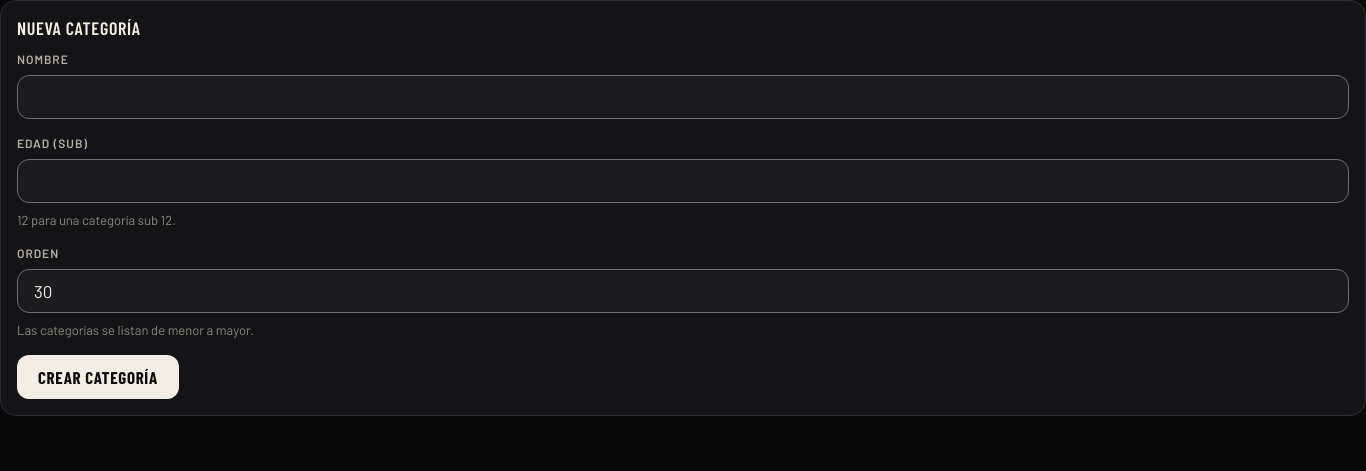
CategoryEditor · una categoría nueva › el orden siguiente sale del que se acaba de usar, no del propuesto
In the field labelled "Nombre": (683, 97) [17,75,1349,119], type "Mayores"
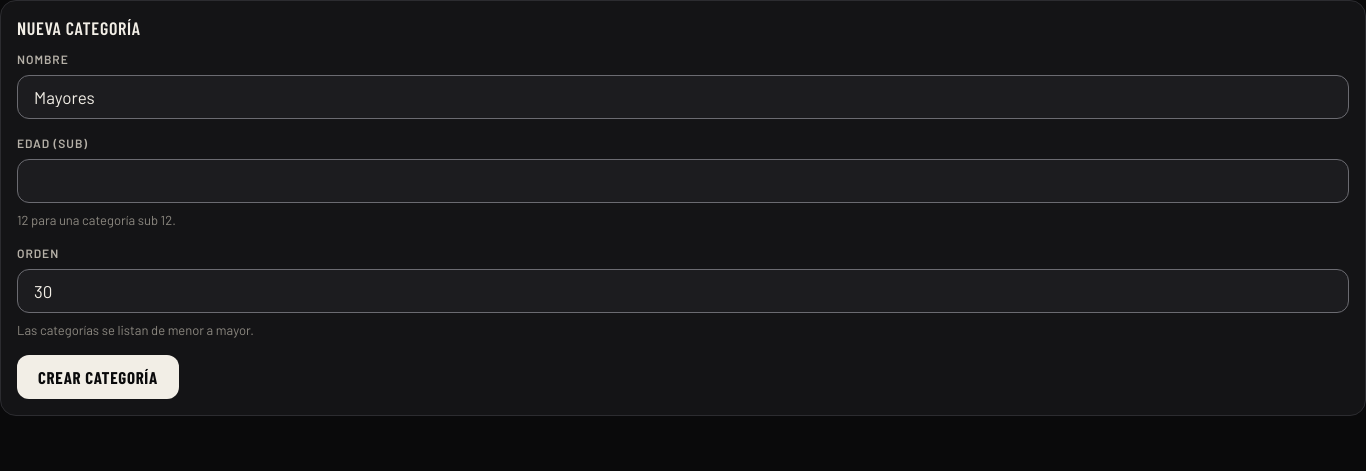
In the number field labelled "Edad (sub)": (683, 181) [17,159,1349,203], type "16"
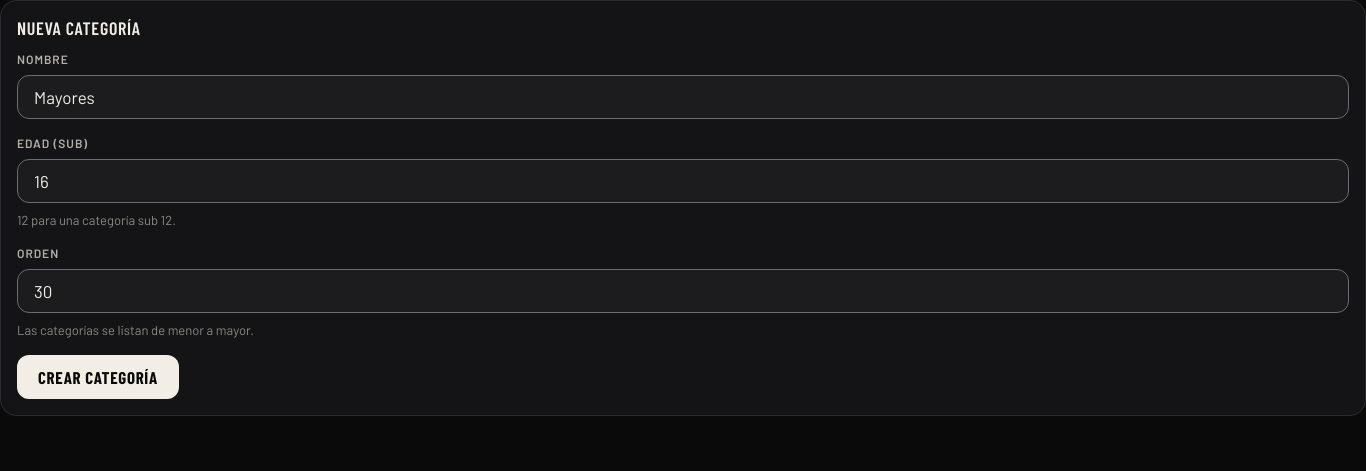
Replace the text in the number field labelled "Orden" with "5": (683, 291) [17,269,1349,313]
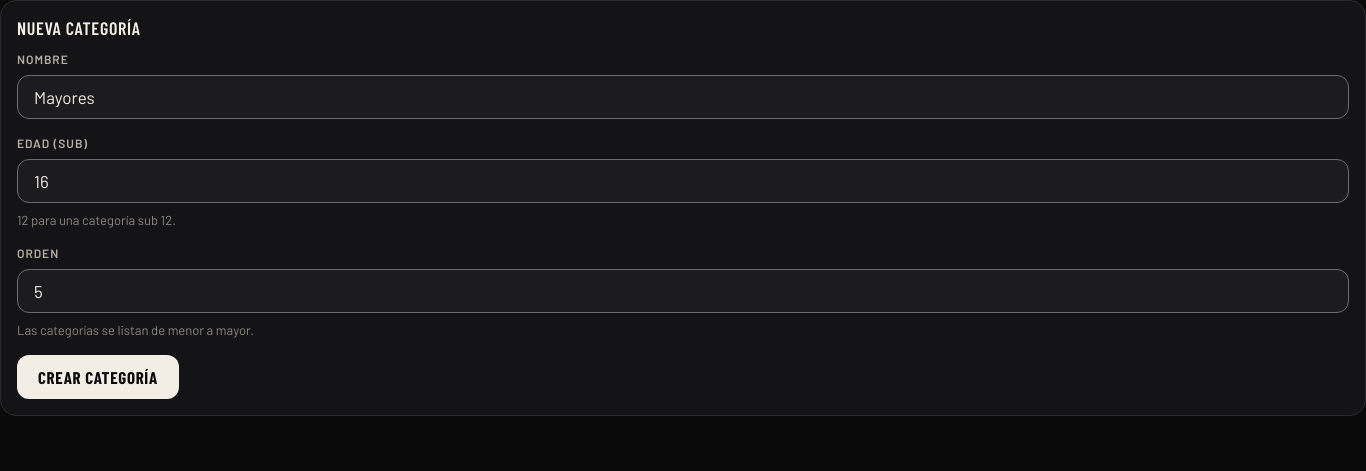
Click the button "Crear categoría": (98, 377) [17,355,179,399]
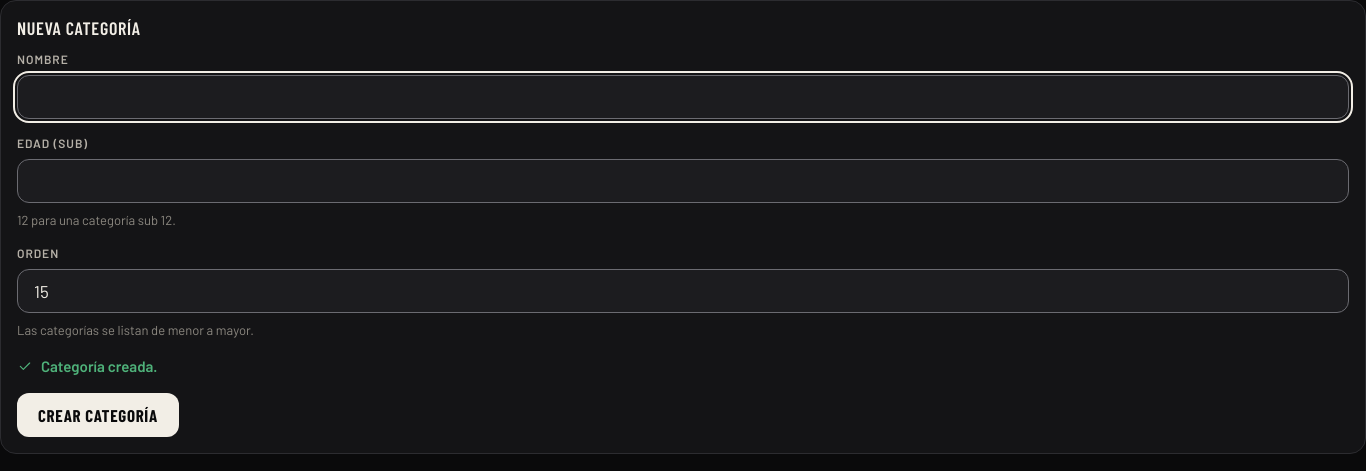
Check: the text "Categoría creada." is shown, box [17,357,158,375]
Check: the number field labelled "Orden" holds "15", box [17,269,1349,313]
